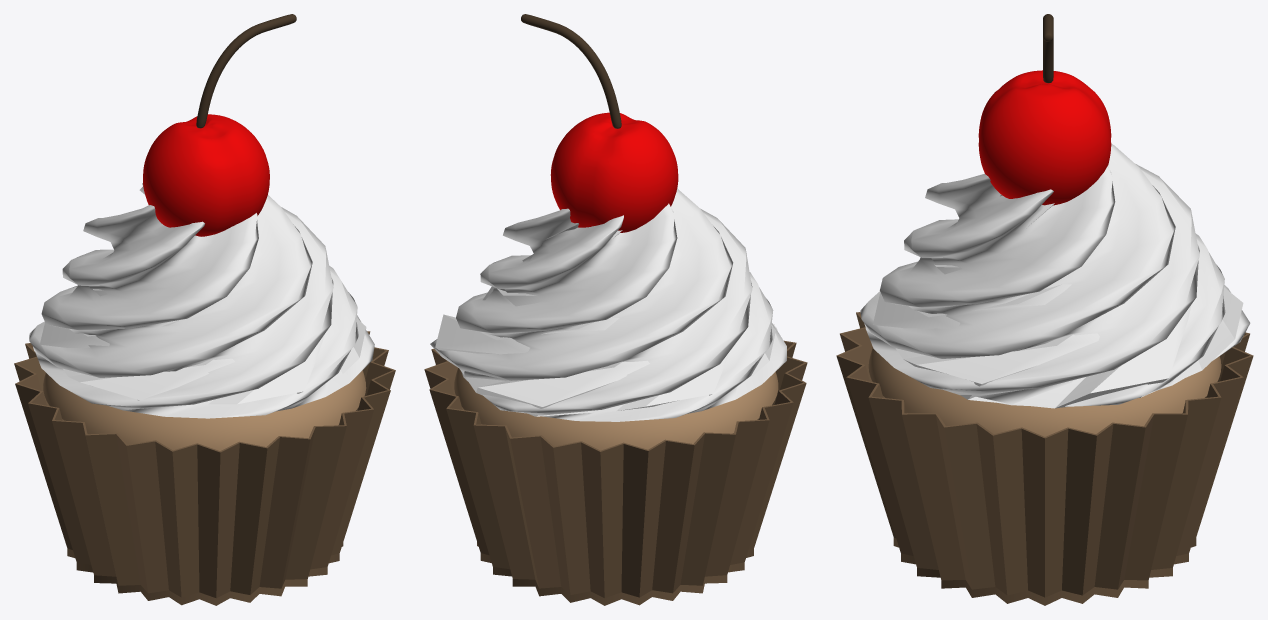
The model's file is Cupcake2.fbx.
3 views of the same model, side by side, from view 1: azimuth 30°, elevation 25°; view 2: azimuth 150°, elevation 25°; view 3: azimuth 270°, elevation 25° (orthographic). The views are drawn at different scales.
Parts seen in each view (by area): view 1: pSphere31; view 2: pSphere31; view 3: pSphere31.
Boxes of the visible parts, box(x1,y1,x2,y2) form: pSphere31: box(14, 14, 395, 605); pSphere31: box(424, 14, 807, 605); pSphere31: box(836, 14, 1253, 605).
Size of the model in its own units: 2.75 by 4.06 by 2.75.
